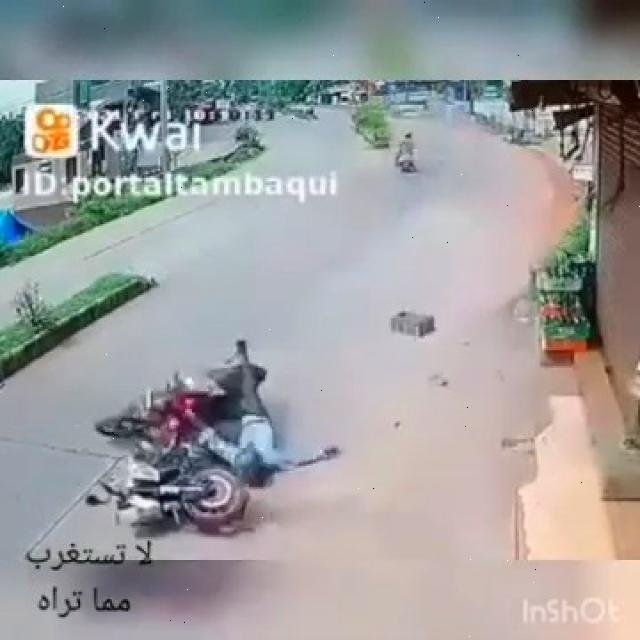accident: (68, 343, 340, 525)
